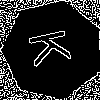K: (27, 25, 81, 68)
